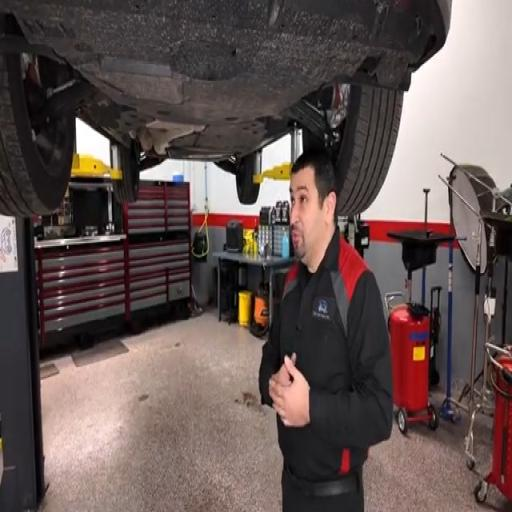tire: (0, 55, 75, 217), (331, 86, 403, 216), (216, 154, 260, 204), (112, 147, 139, 204), (236, 164, 259, 204)
wheel: (0, 55, 75, 217), (216, 151, 261, 204), (112, 144, 139, 204)
